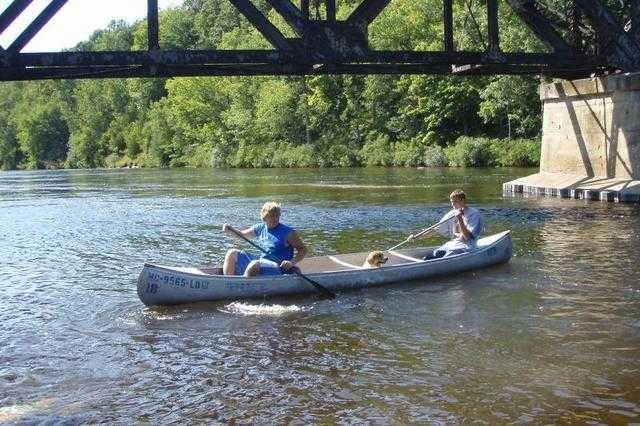kayak: (138, 231, 513, 304)
